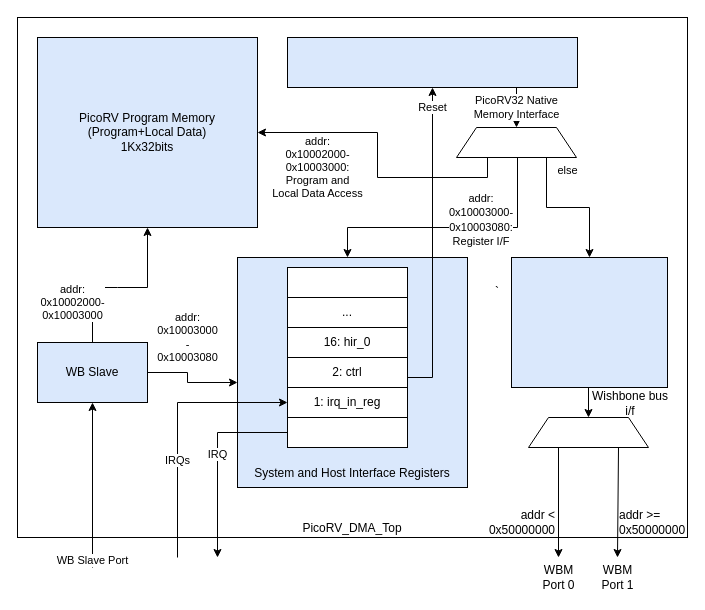
This 705x610 diagram has some shape labels left out. Here are the shapes that lost their labels. From the top down, the centre of each, then its label:
At (432,62): "PicoRV32".
At (347,282): "31: hir_15".
At (589,322): "PicoRV_DMA_ Burst FSM".
At (347,432): "0: irq_out_reg".
